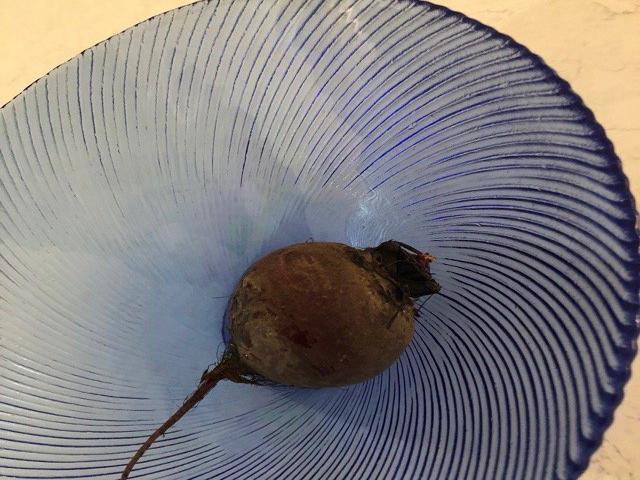beet: (122, 242, 439, 480)
